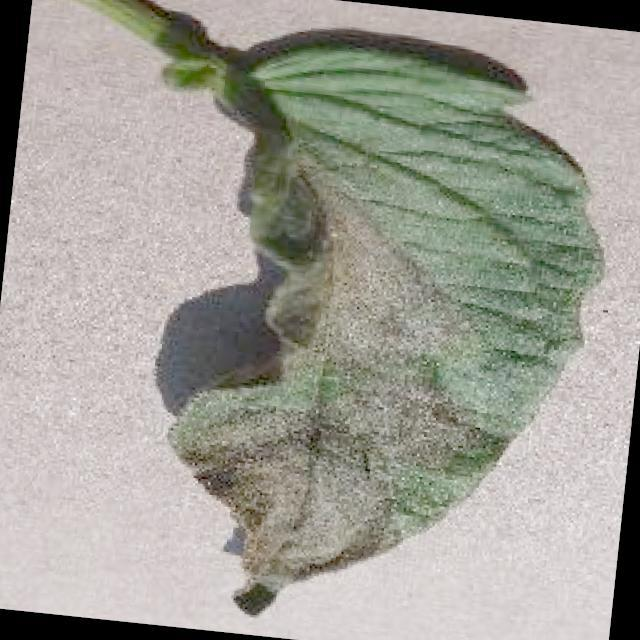Tomato late blight leaf: (144, 33, 627, 640)
